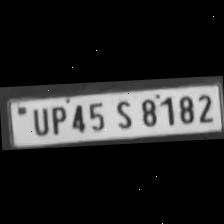1: (158, 93, 176, 125)
2: (194, 90, 216, 122)
4: (66, 100, 86, 132)
5: (83, 97, 107, 130)
8: (135, 93, 159, 126), (174, 92, 194, 122)
P: (46, 102, 66, 134)
S: (109, 95, 135, 128)
U: (28, 103, 50, 135)
